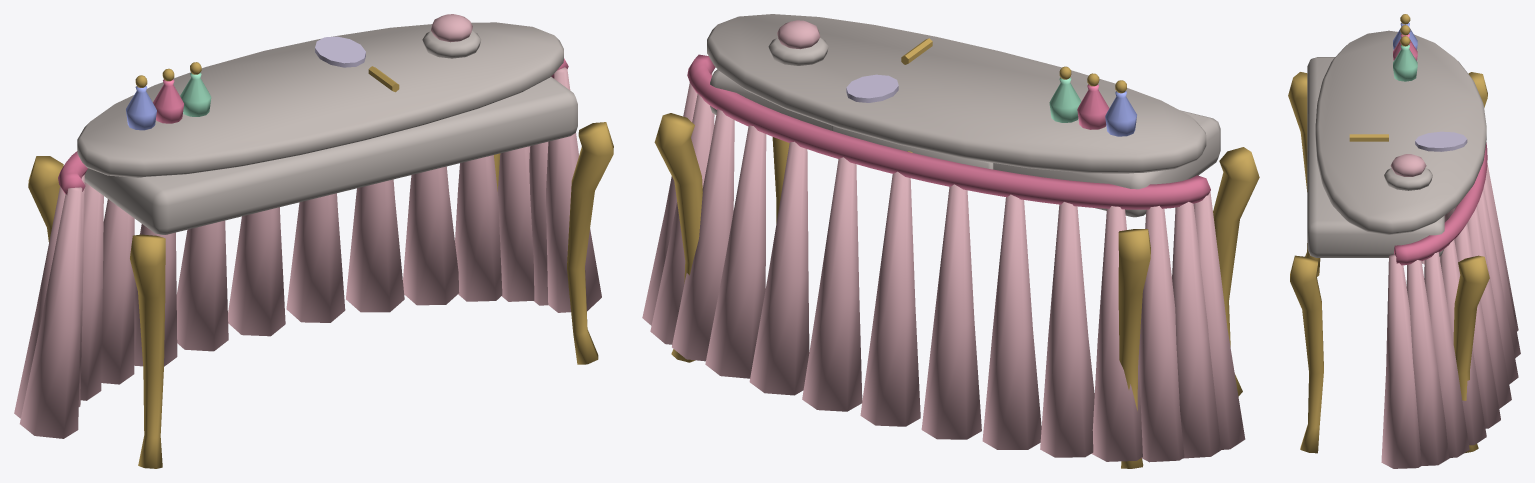
The model's file is vanity_table.glb.
3 renders of one model, left to right at view 1: azimuth 30°, elevation 25°; view 2: azimuth 150°, elevation 25°; view 3: azimuth 270°, elevation 25°, orthographic. The views are drawn at different scales.
Visible parts, largest first — view 1: vanity_table; view 2: vanity_table; view 3: vanity_table.
Part boxes in pixels (x1=…): vanity_table: x1=14, y1=14, x2=613, y2=468; vanity_table: x1=642, y1=14, x2=1259, y2=468; vanity_table: x1=1288, y1=14, x2=1520, y2=468.
Size of what is drawn, in the model's own units: 1.4 by 0.8 by 0.6.
